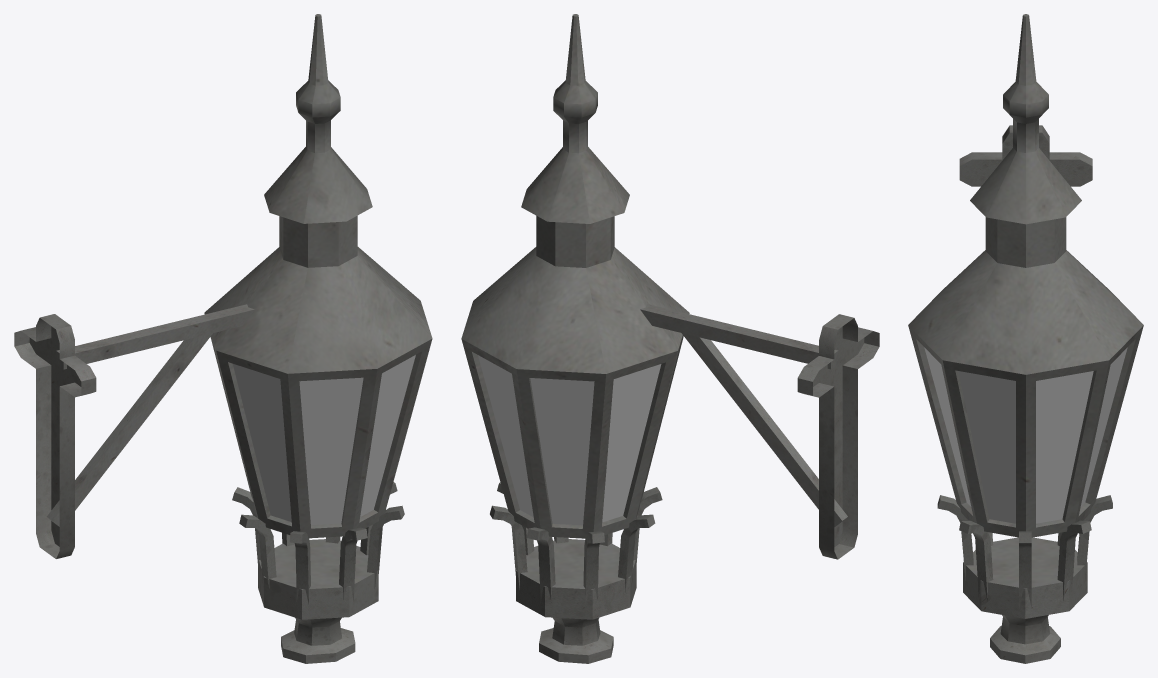
File: lantern_wall.fbx
3 views of the same model, side by side, from view 1: azimuth 30°, elevation 25°; view 2: azimuth 150°, elevation 25°; view 3: azimuth 270°, elevation 25° (orthographic).
Visible parts, largest first — view 1: Mesh; view 2: Mesh; view 3: Mesh.
Boxes of the visible parts, bbox=[...] form: Mesh: bbox=[14, 14, 432, 663]; Mesh: bbox=[461, 14, 879, 663]; Mesh: bbox=[908, 14, 1143, 663].
Bounding box in the file's own units: 63.52 × 104 × 34.86.
